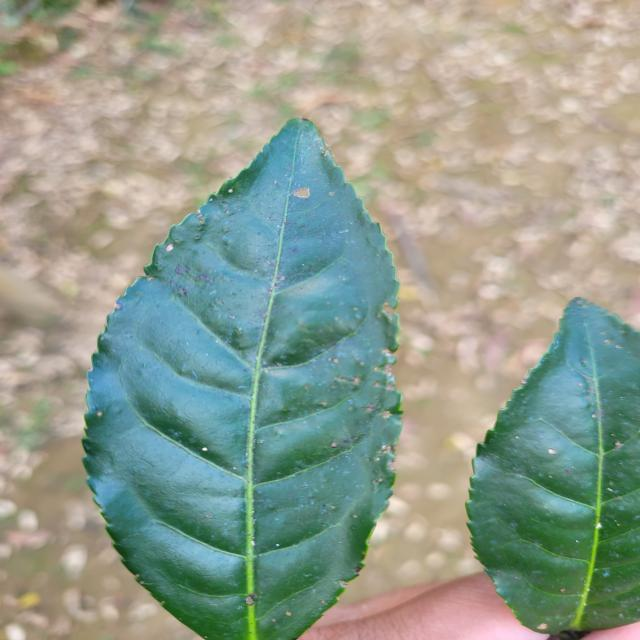Category D(7+ days, Not for Tea): (66, 97, 428, 640)
